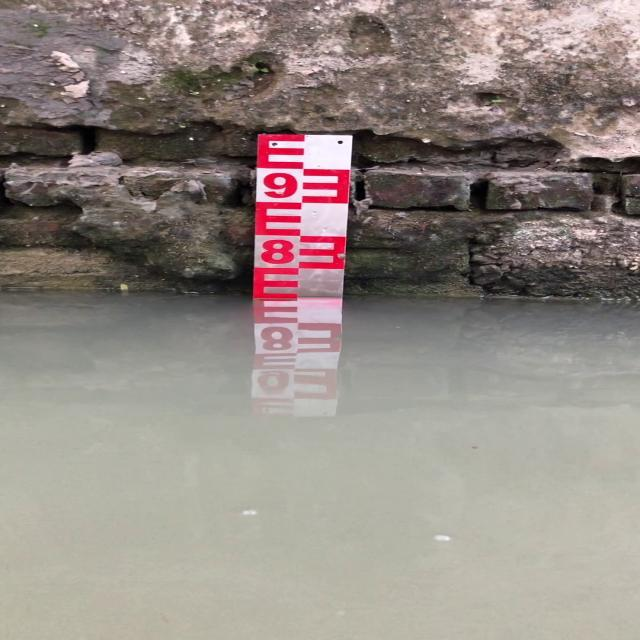ruler: (238, 123, 368, 309)
value: (257, 165, 304, 204), (255, 234, 301, 270)
